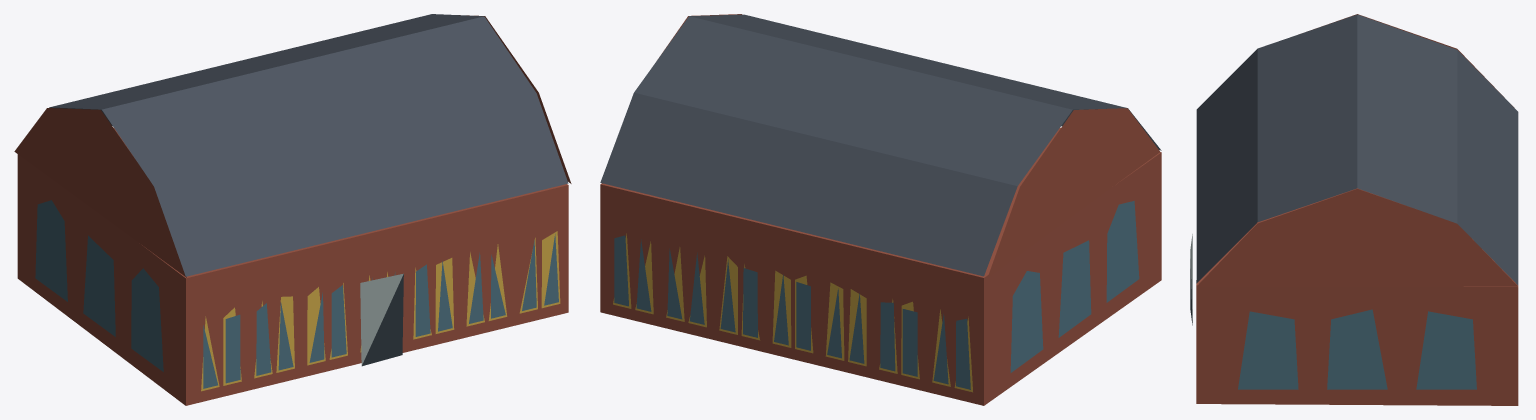
Rendered from ketelhuis.lod2.glb.
3 views of the same model, side by side, from view 1: azimuth 30°, elevation 25°; view 2: azimuth 150°, elevation 25°; view 3: azimuth 270°, elevation 25° (orthographic). The views are drawn at different scales.
Visible parts, largest first — view 1: lod2; view 2: lod2; view 3: lod2.
Boxes of the visible parts, x1=… form: lod2: x1=14, y1=14, x2=571, y2=405; lod2: x1=600, y1=14, x2=1161, y2=405; lod2: x1=1190, y1=14, x2=1518, y2=405.
Size of the model in its own units: 23.33 by 13.4 by 18.58.
